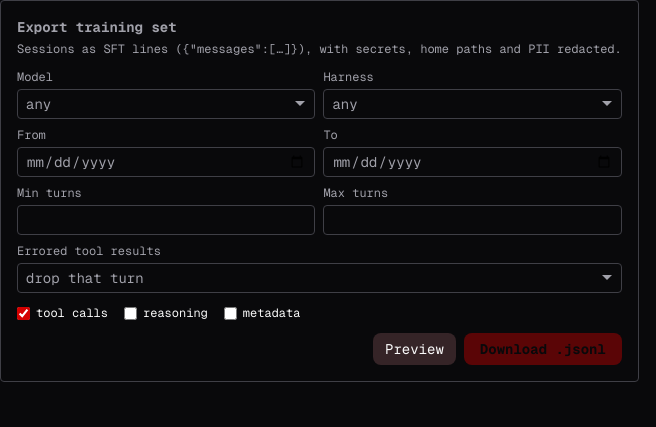
Test case: TrainingExport › says what went wrong
This screenshot has width=656, height=427.
Step 1. Click the button "Preview" → (414, 349), box [373,333,456,365]
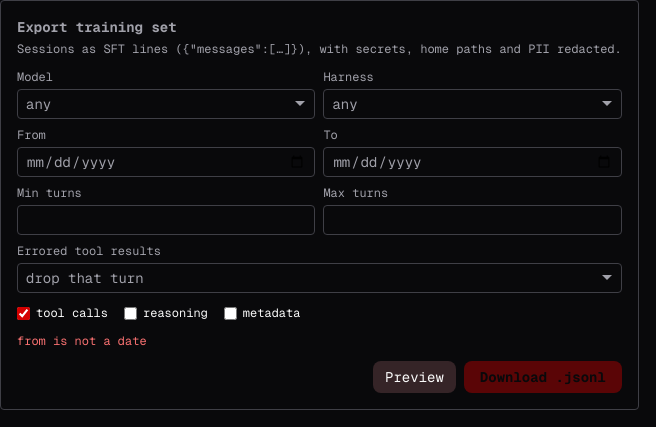
Expected: the text "from is not a date" is shown, [17,333,147,349]
